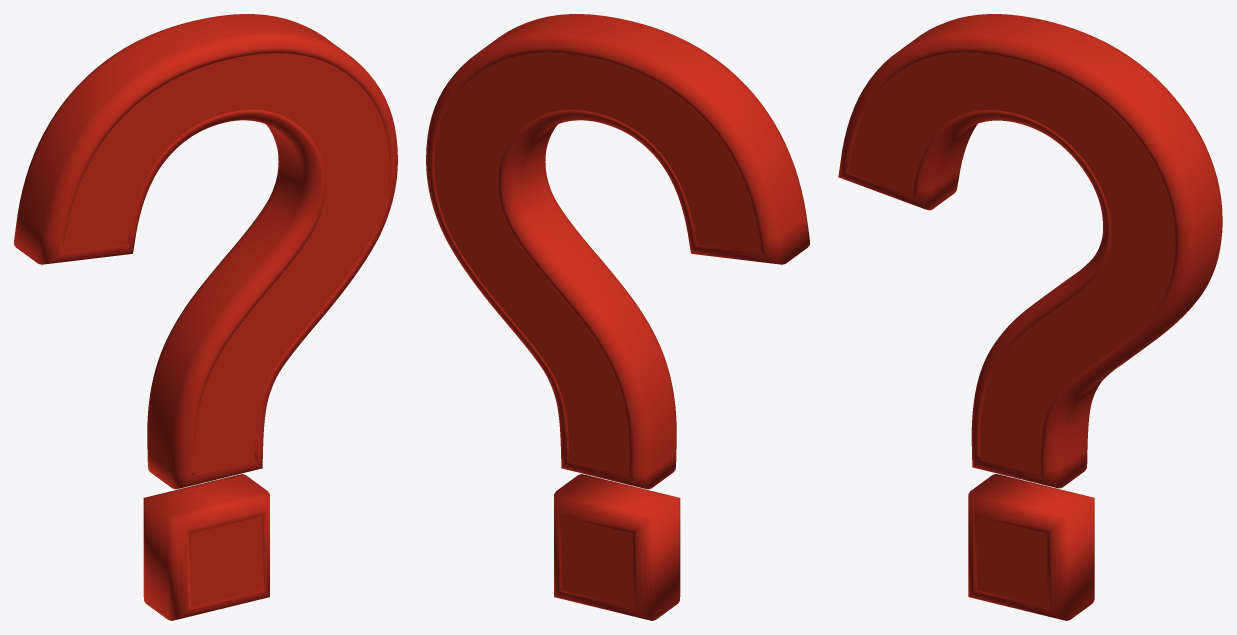
Rendered from QuestionMark.fbx.
3 views of the same model, side by side, from view 1: azimuth 30°, elevation 25°; view 2: azimuth 150°, elevation 25°; view 3: azimuth 330°, elevation 25° (orthographic).
Parts seen in each view (by area): view 1: QuestionMark; view 2: QuestionMark; view 3: QuestionMark.
Boxes of the visible parts, bbox=[...] form: QuestionMark: bbox=[14, 14, 397, 620]; QuestionMark: bbox=[426, 14, 809, 620]; QuestionMark: bbox=[838, 14, 1222, 620].
Bounding box in the file's own units: 74.13 × 113 × 14.
